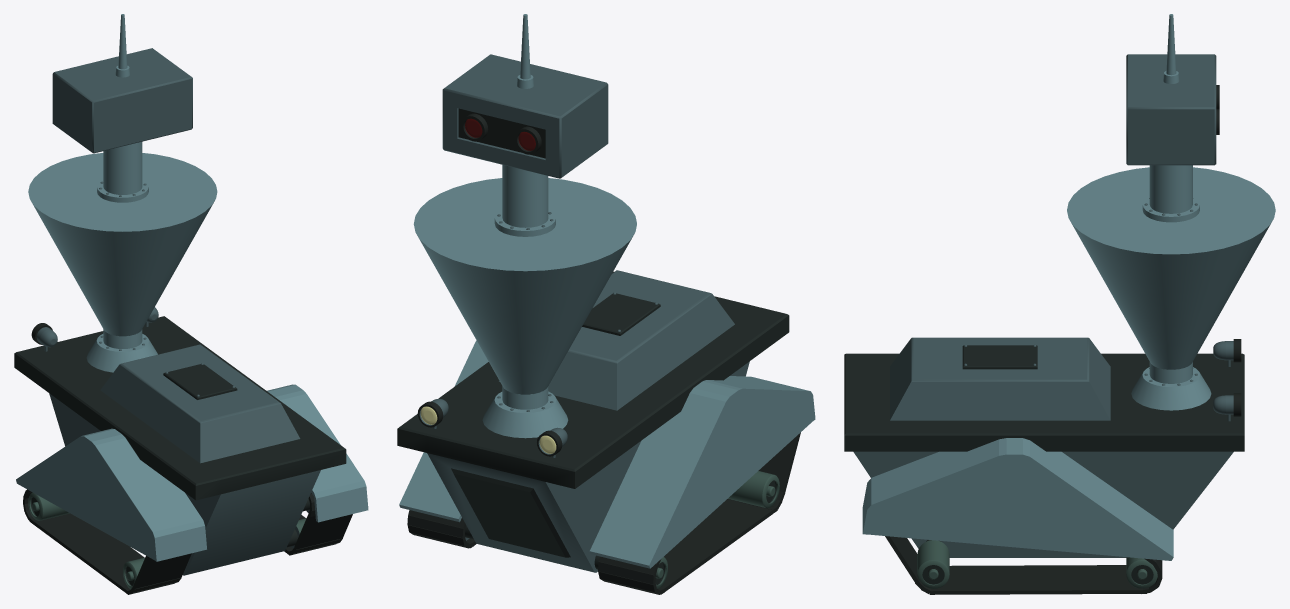
File: Model_Player_Robot.fbx
The picture shows the model from 3 angles, left to right: view 1: azimuth 30°, elevation 25°; view 2: azimuth 150°, elevation 25°; view 3: azimuth 270°, elevation 25°; orthographic projection. The views are drawn at different scales.
Parts seen in each view (by area): view 1: Model_Player_Robot_Body, Model_Player_Robot_Head; view 2: Model_Player_Robot_Body, Model_Player_Robot_Head; view 3: Model_Player_Robot_Body, Model_Player_Robot_Head.
Boxes of the visible parts, <box> form: Model_Player_Robot_Body: <box>14,142,368,594</box>; Model_Player_Robot_Head: <box>52,14,192,153</box>; Model_Player_Robot_Body: <box>397,164,815,594</box>; Model_Player_Robot_Head: <box>442,14,608,178</box>; Model_Player_Robot_Body: <box>844,165,1275,594</box>; Model_Player_Robot_Head: <box>1126,14,1219,165</box>.
Bounding box in the file's own units: 840 × 1799 × 1343.
